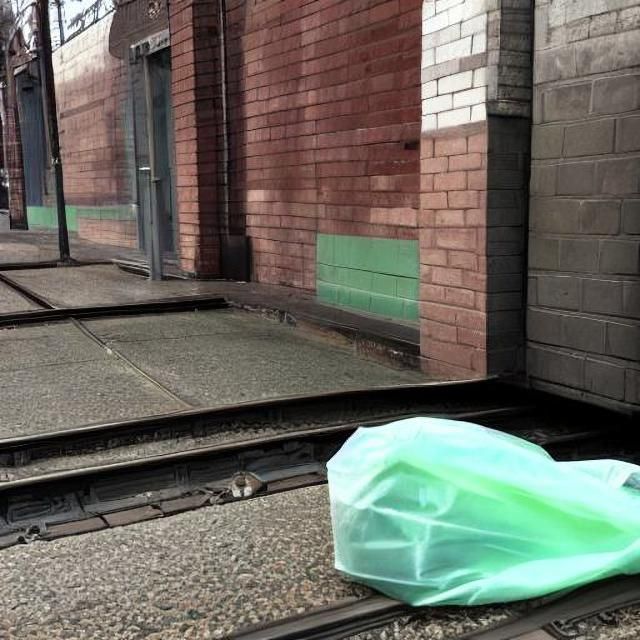plastic bag: (325, 421, 637, 610)
